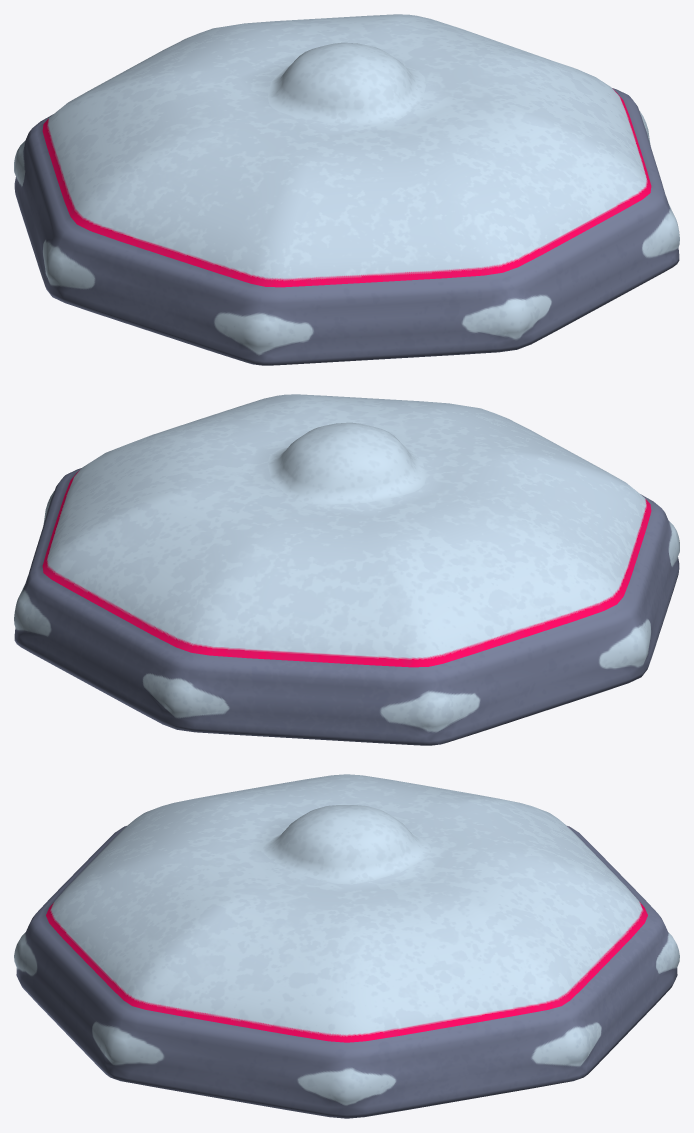
Rendered from GDW_1_Y2 - Shield.obj.
The picture shows the model from 3 angles, top to bottom: view 1: azimuth 30°, elevation 25°; view 2: azimuth 150°, elevation 25°; view 3: azimuth 270°, elevation 25°; orthographic projection. The views are drawn at different scales.
Parts seen in each view (by area): view 1: Shield_Sphere.003; view 2: Shield_Sphere.003; view 3: Shield_Sphere.003.
Part boxes in pixels (x1,y1,x2,y2): Shield_Sphere.003: (14, 14, 679, 365); Shield_Sphere.003: (14, 394, 679, 745); Shield_Sphere.003: (14, 774, 679, 1118).
Bounding box in the file's own units: 1.06 × 0.3626 × 1.06.
1 material, 1 textured.
